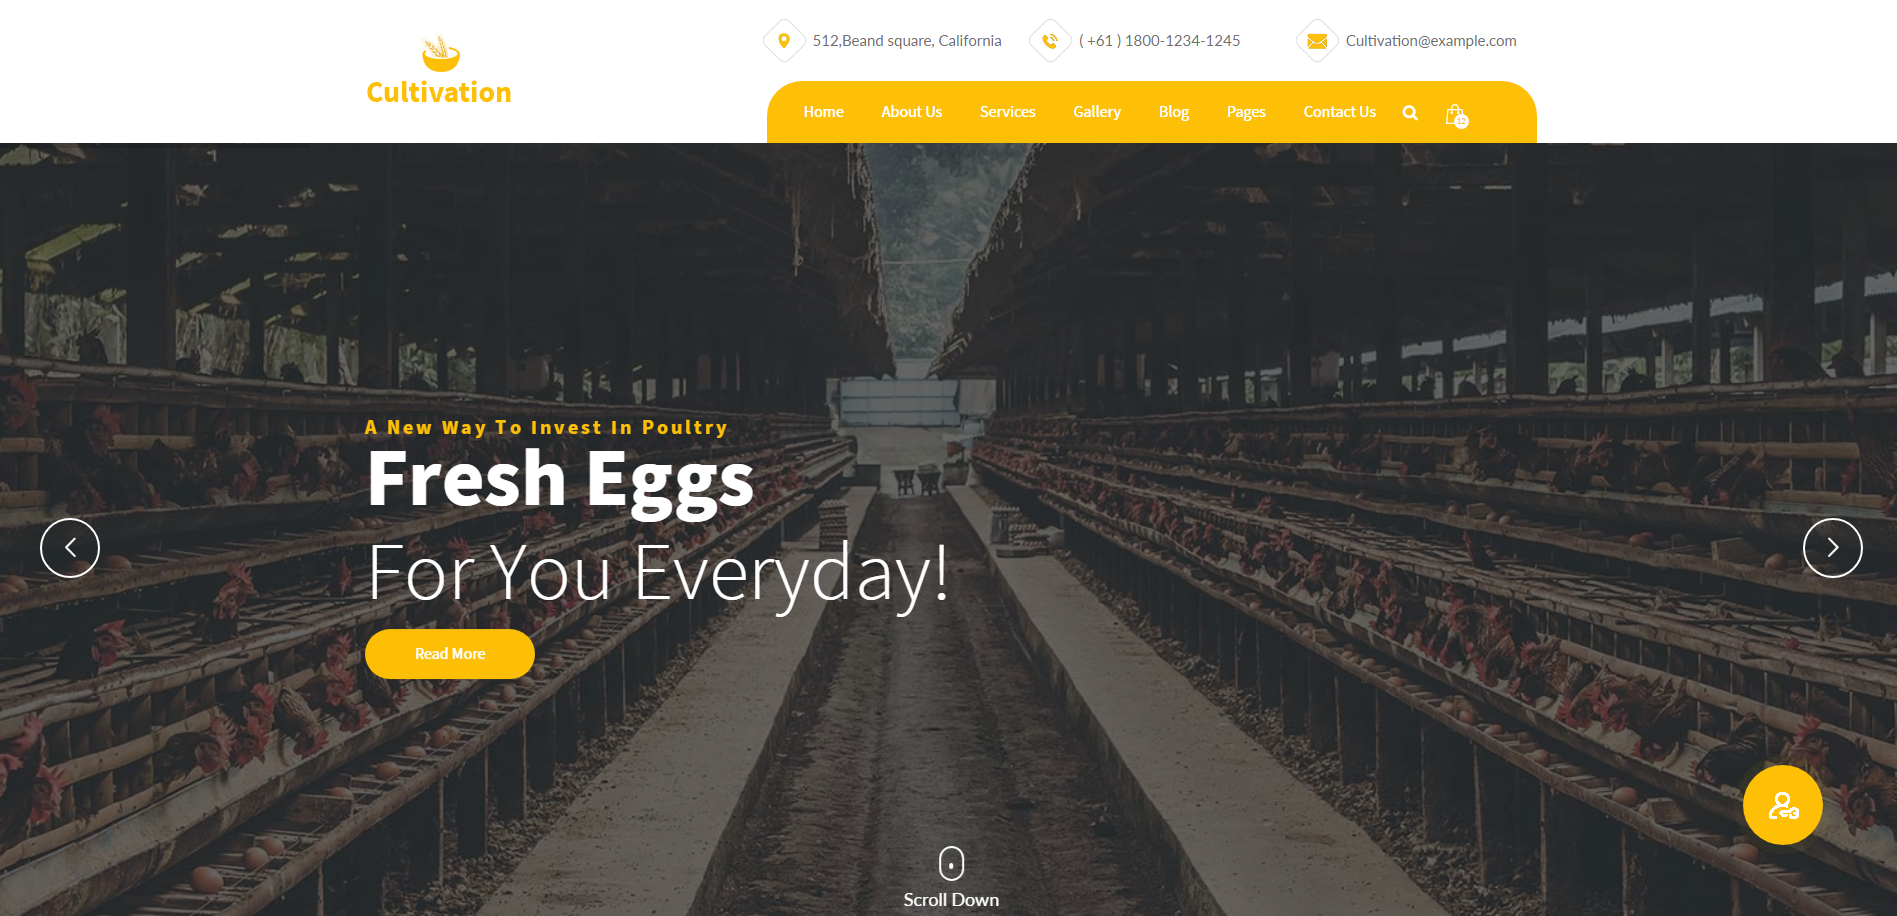menu: (34, 8, 1889, 219)
